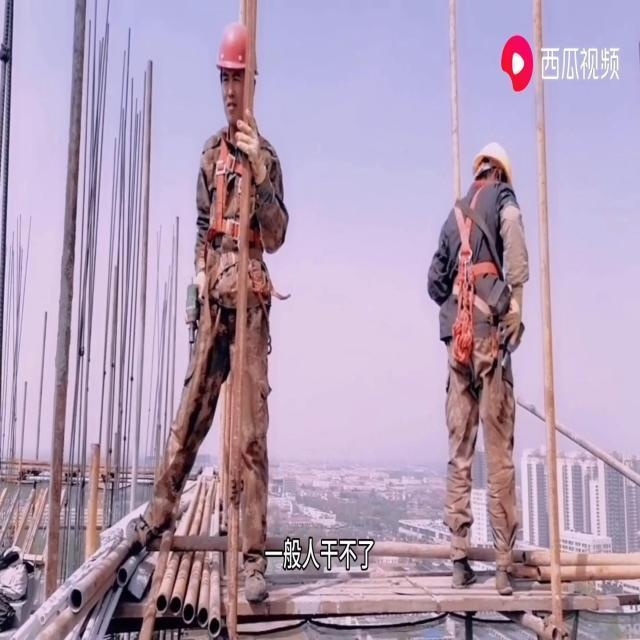Arnes_seguridad: (441, 173, 504, 363), (200, 121, 269, 274)
